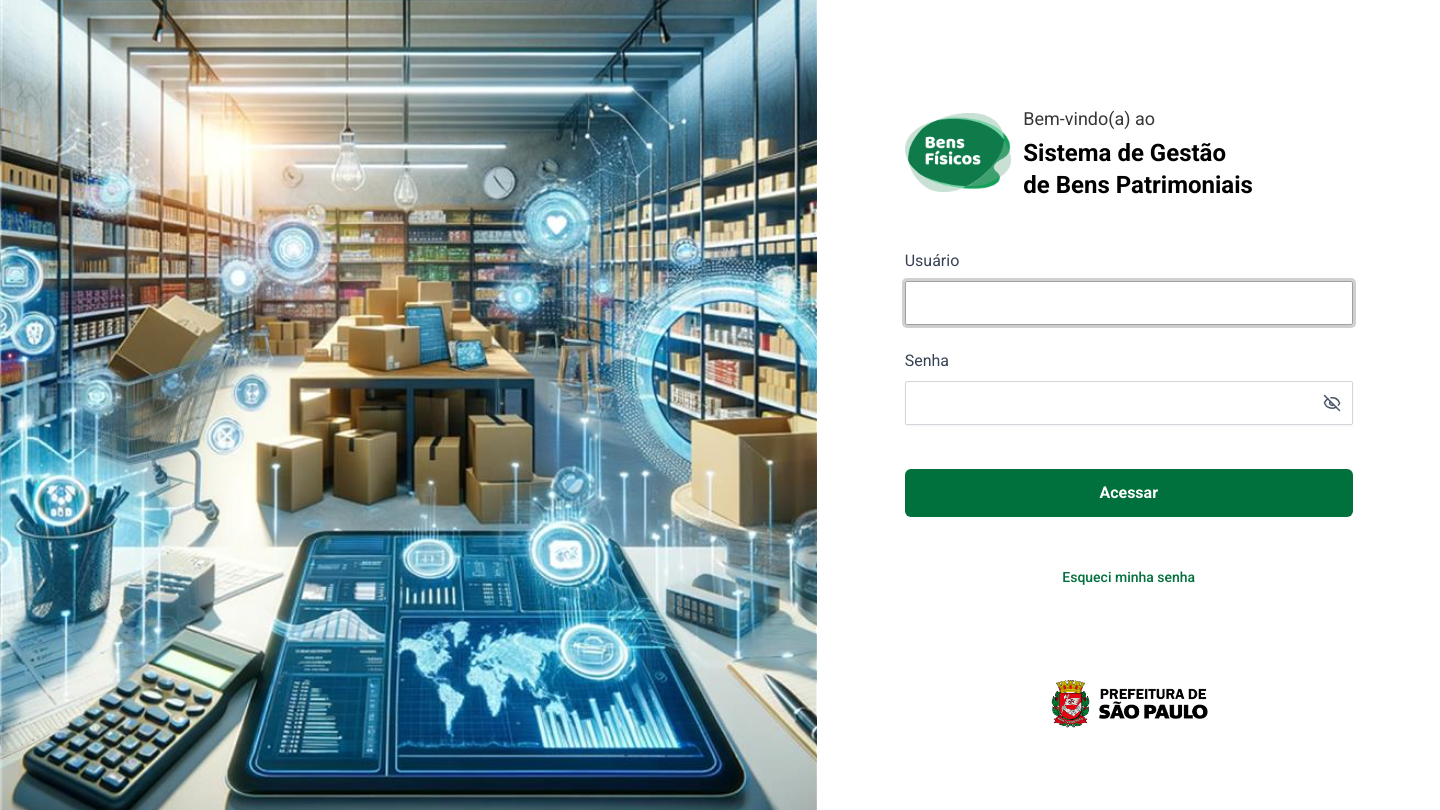
Scenario: LoginPage › Validações › mostra mensagens de validação ao submeter campos vazios
The image size is (1440, 810).
Click the button "Acessar": point(1129, 492) 905,468 -> 1353,516
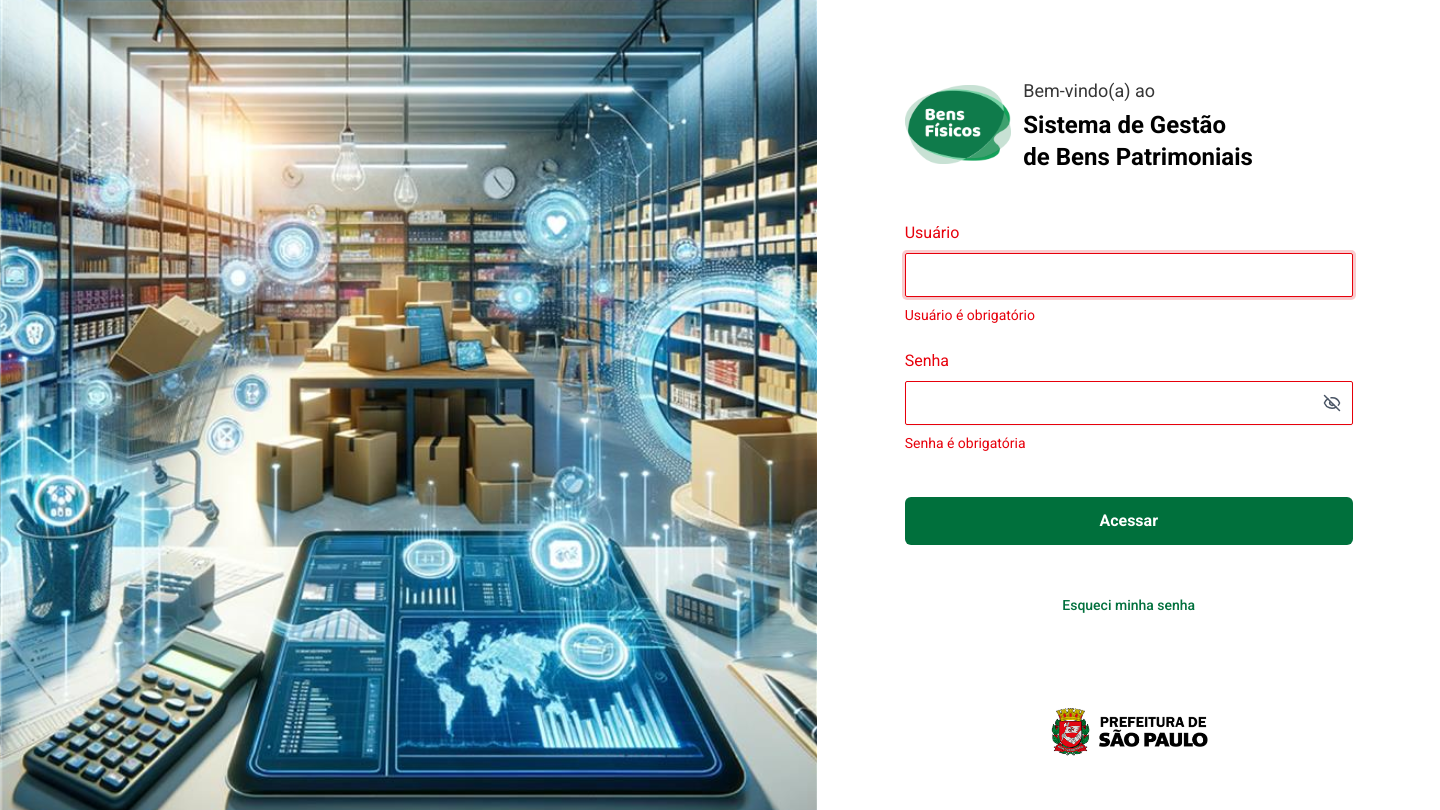
Expected: the text "Usuário é obrigatório" is shown, 905,306 -> 1035,322
Expected: the text "Senha é obrigatória" is shown, 905,434 -> 1026,450
